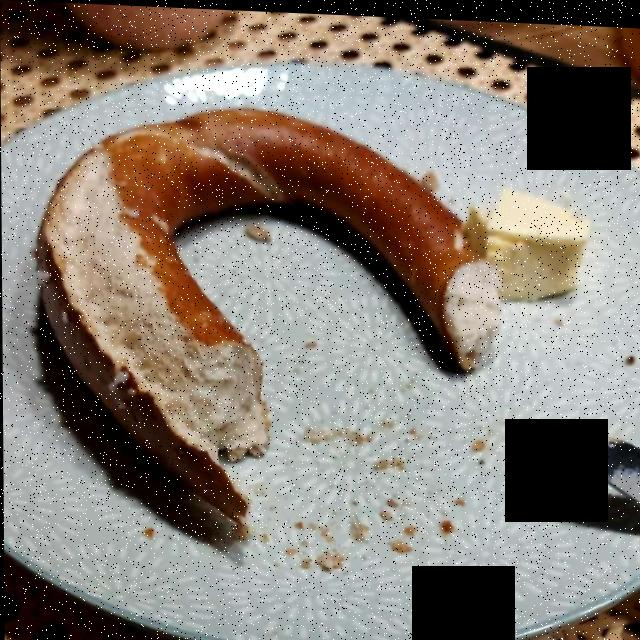lye-pretzel-soft: (62, 128, 488, 526)
